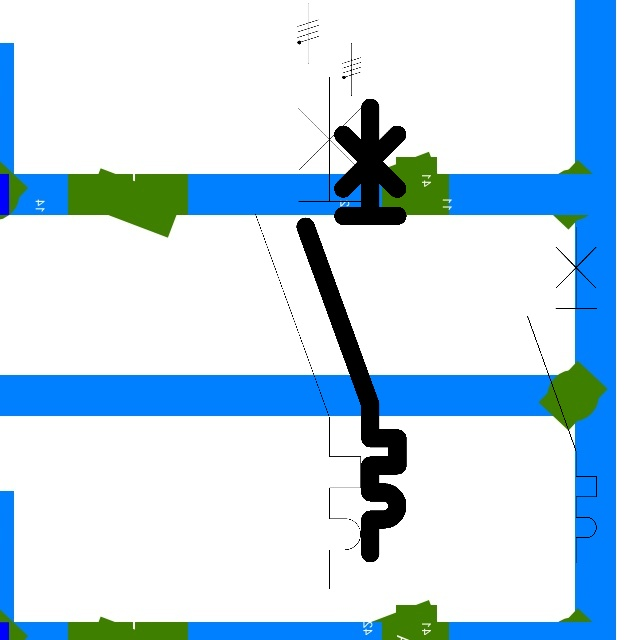interruptor_termomagnetico: (242, 63, 374, 601), (294, 96, 409, 565), (519, 218, 605, 572)
